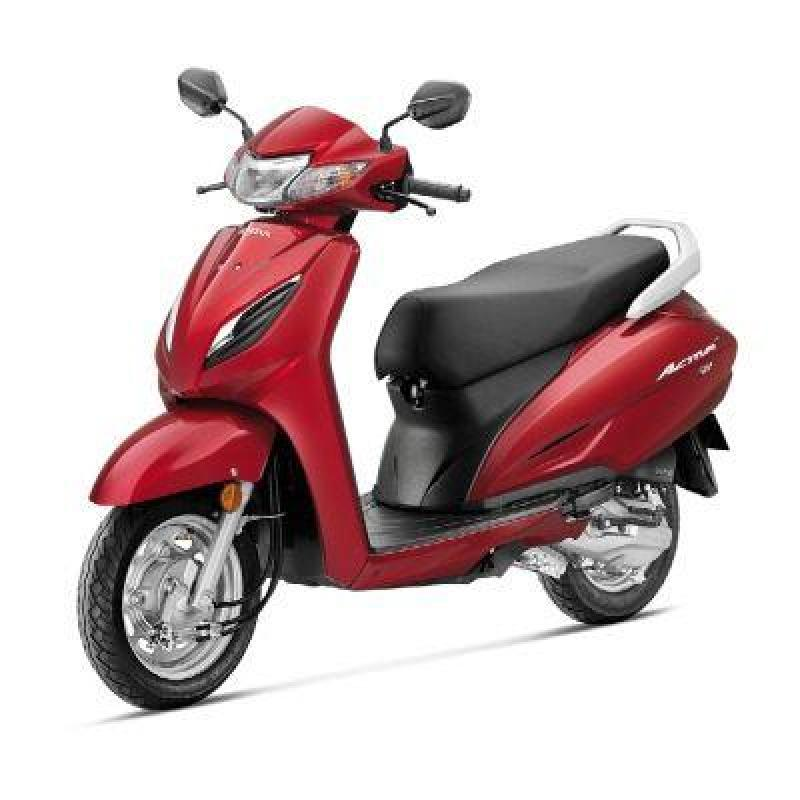bike: (53, 44, 741, 731)
